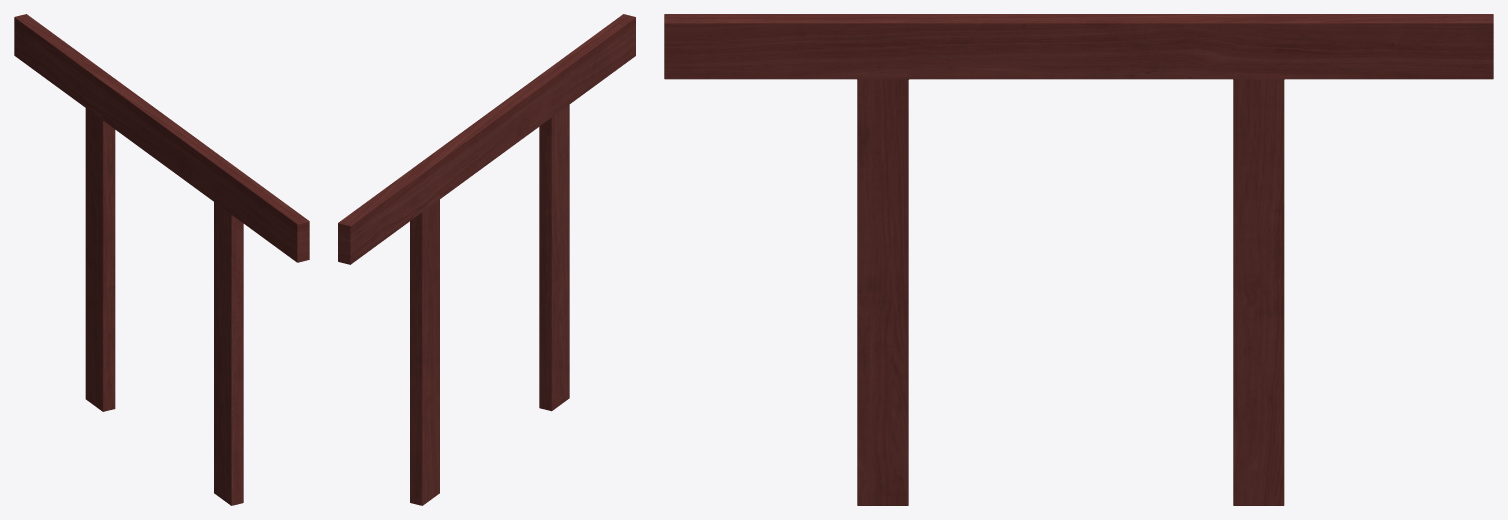
The model's file is SM_SJJ_HG_Windowframe01B.fbx.
3 views of the same model, side by side, from view 1: azimuth 30°, elevation 25°; view 2: azimuth 150°, elevation 25°; view 3: azimuth 270°, elevation 25° (orthographic). The views are drawn at different scales.
Visible parts, largest first — view 1: SM_SJJ_HG_Windowframe01B_LOD0; view 2: SM_SJJ_HG_Windowframe01B_LOD0; view 3: SM_SJJ_HG_Windowframe01B_LOD0.
Part boxes in pixels (left/top/right/bottom): SM_SJJ_HG_Windowframe01B_LOD0: left=14, top=14, right=309, bottom=505; SM_SJJ_HG_Windowframe01B_LOD0: left=338, top=14, right=635, bottom=505; SM_SJJ_HG_Windowframe01B_LOD0: left=664, top=14, right=1493, bottom=505.
Bounding box in the file's own units: 8.36 × 324 × 208.
Materials: 1 (1 with a texture image).
